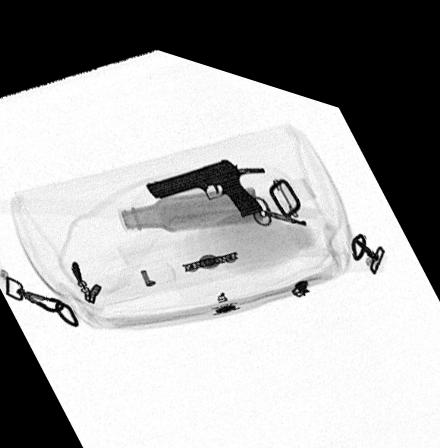Gun: (147, 145, 271, 202)
